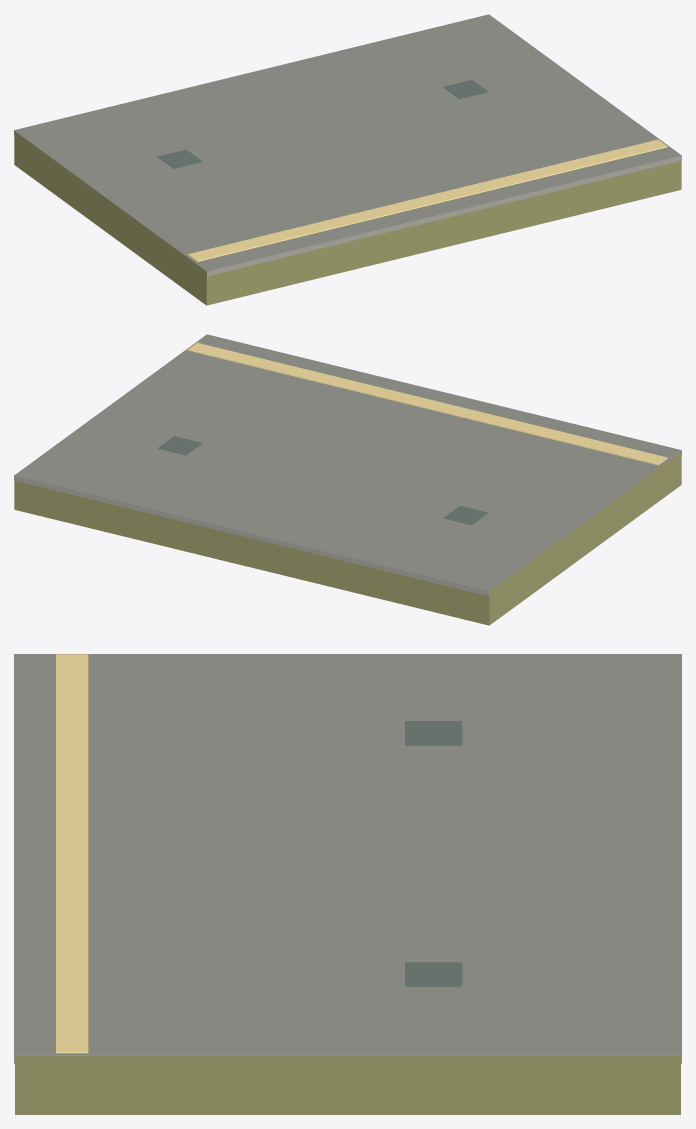
The model's file is SM_KitAnden_F7_v0_LOD0.fbx.
3 renders of one model, top to bottom at view 1: azimuth 30°, elevation 25°; view 2: azimuth 150°, elevation 25°; view 3: azimuth 270°, elevation 25°, orthographic. The views are drawn at different scales.
Visible parts, largest first — view 1: SM_kit_anden_v0_LOD0; view 2: SM_kit_anden_v0_LOD0; view 3: SM_kit_anden_v0_LOD0.
Boxes of the visible parts, left/top/right/bottom form: SM_kit_anden_v0_LOD0: left=14, top=14, right=681, bottom=305; SM_kit_anden_v0_LOD0: left=14, top=334, right=681, bottom=625; SM_kit_anden_v0_LOD0: left=14, top=654, right=681, bottom=1114.
Size of the model in its own units: 9.98 by 0.71 by 7.02.
